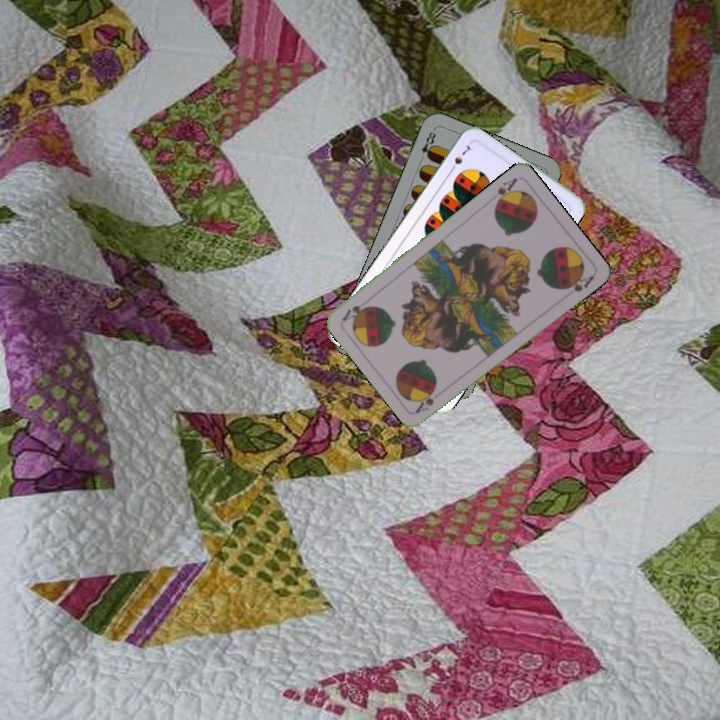E8: (416, 126, 439, 164)
S7: (445, 141, 475, 175)
SA: (491, 174, 520, 209), (412, 388, 437, 415)
